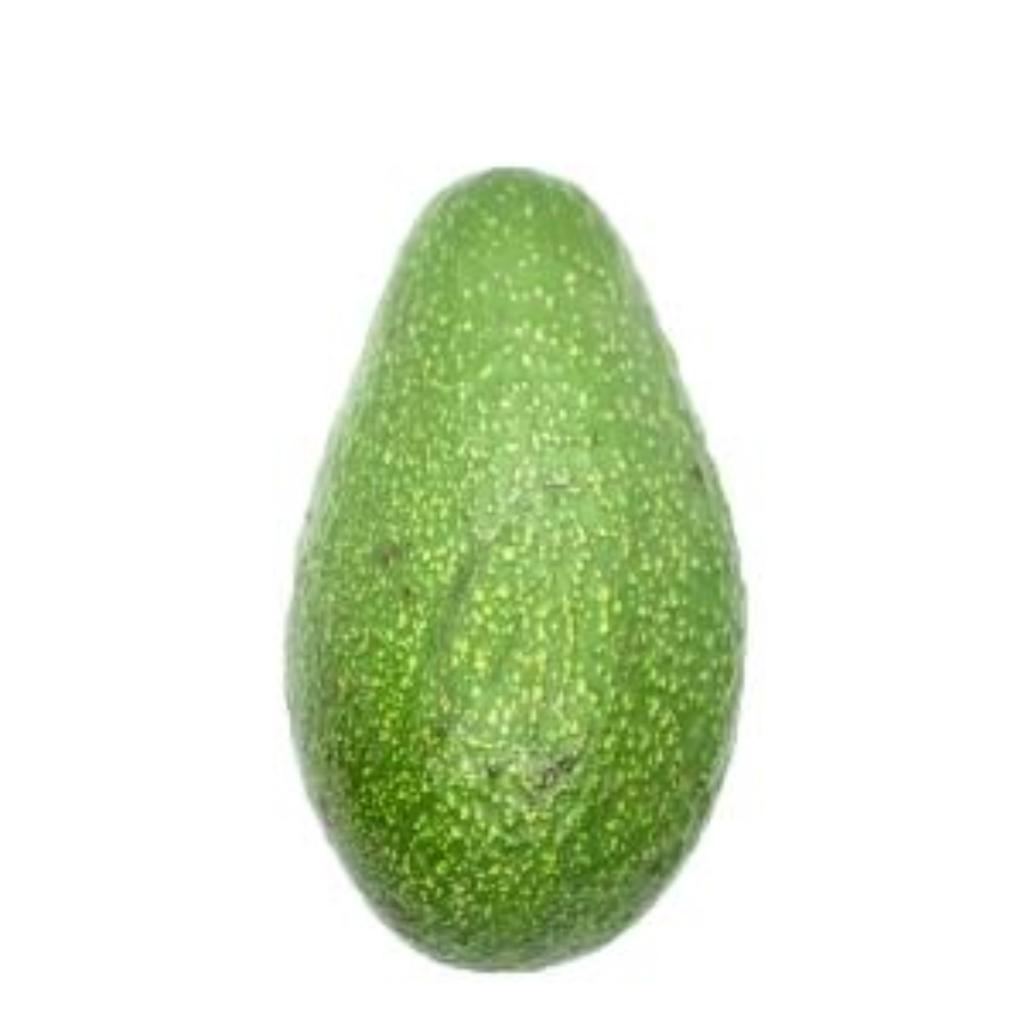cercospora_spot: (285, 129, 763, 993)
